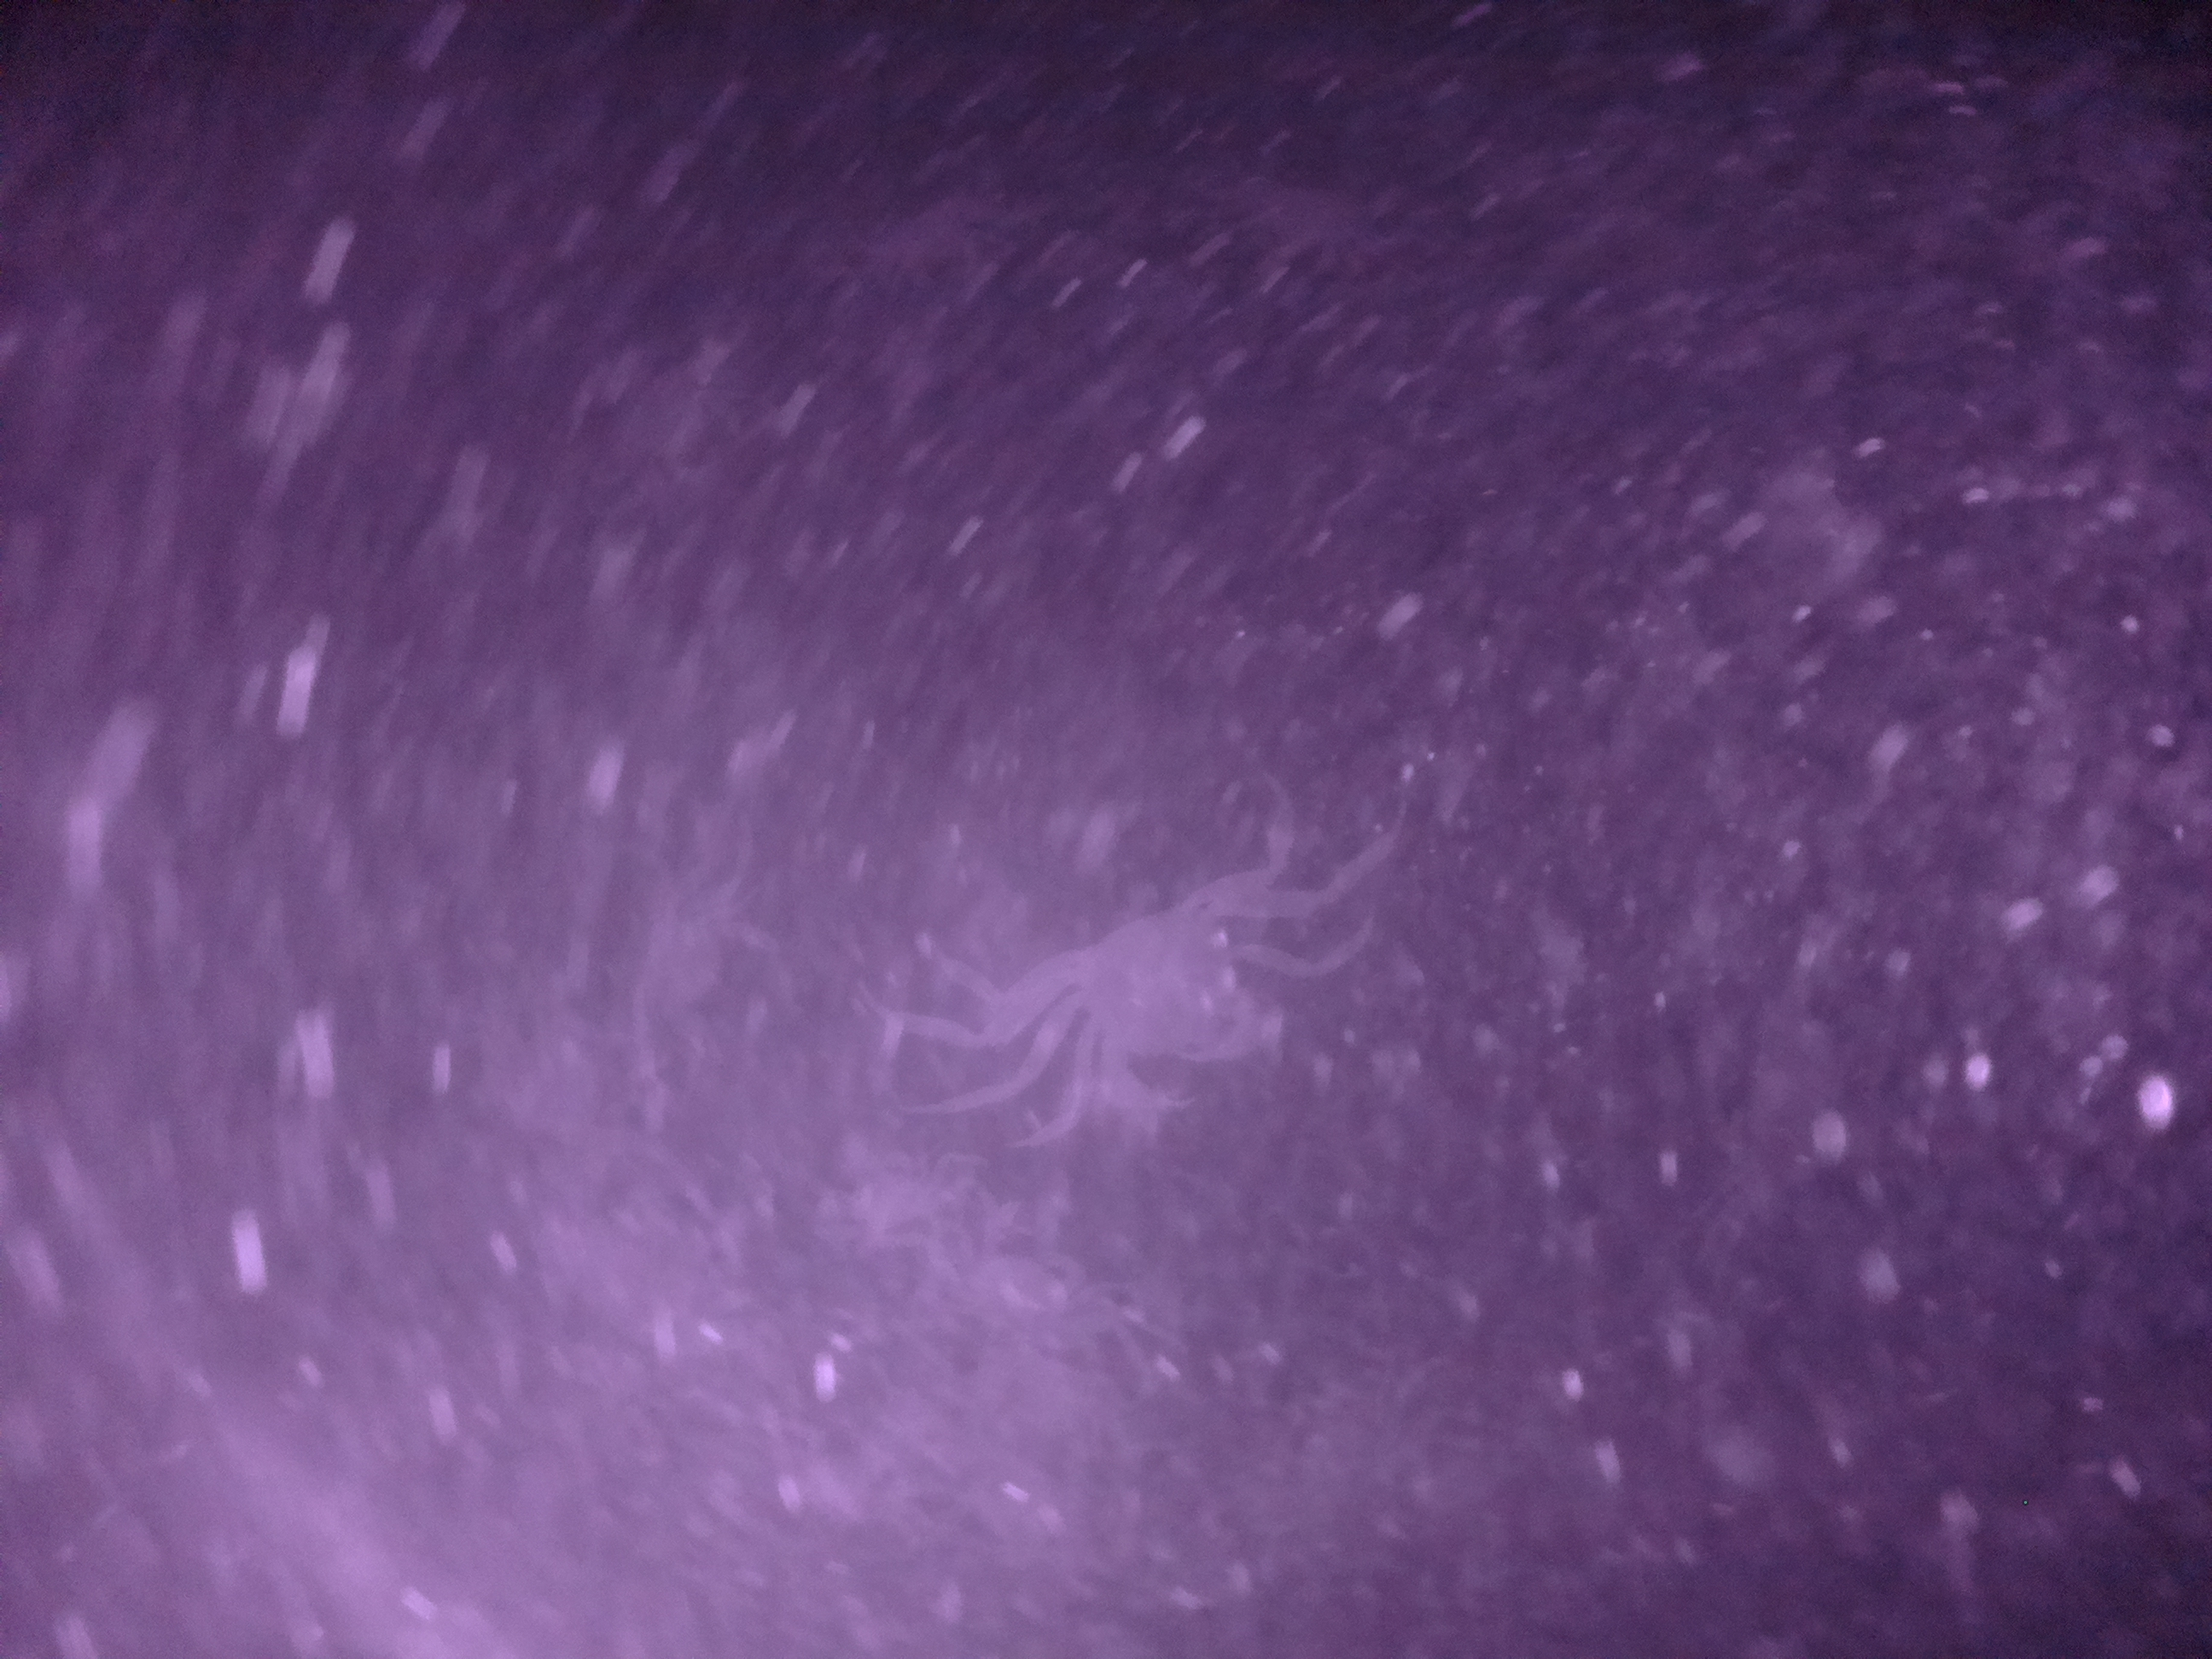Crab: (1000, 856, 1341, 1133)
